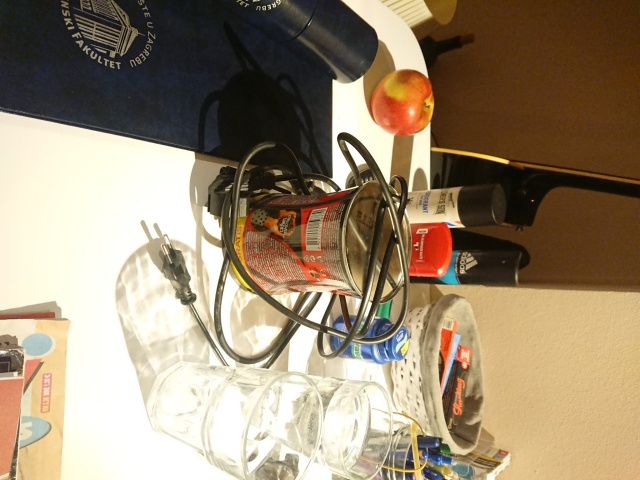Nescafe Classic 225g: (217, 178, 416, 306)
